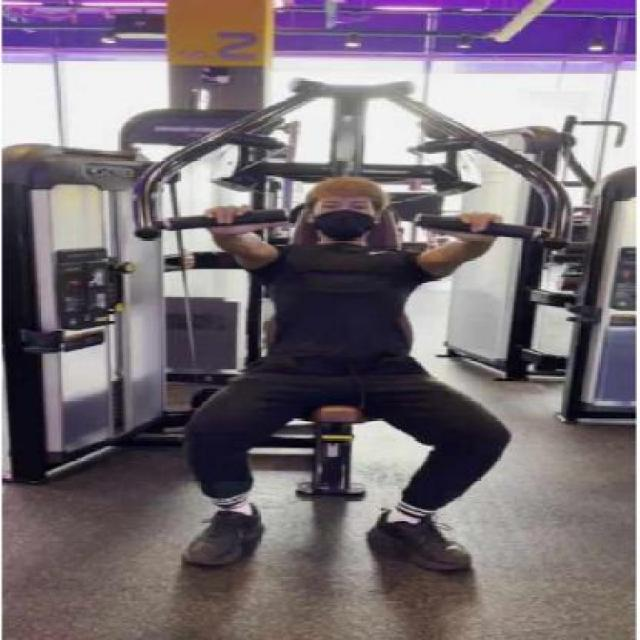Chest Press machine: (2, 74, 636, 591)
